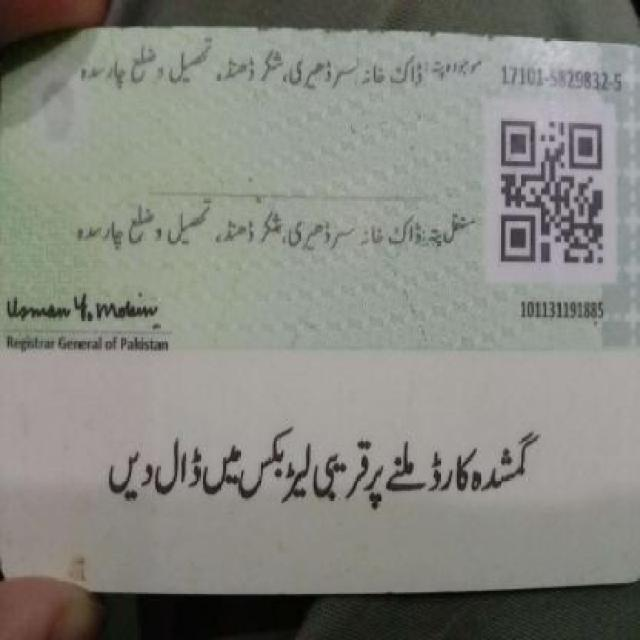Back: (6, 17, 640, 589)
